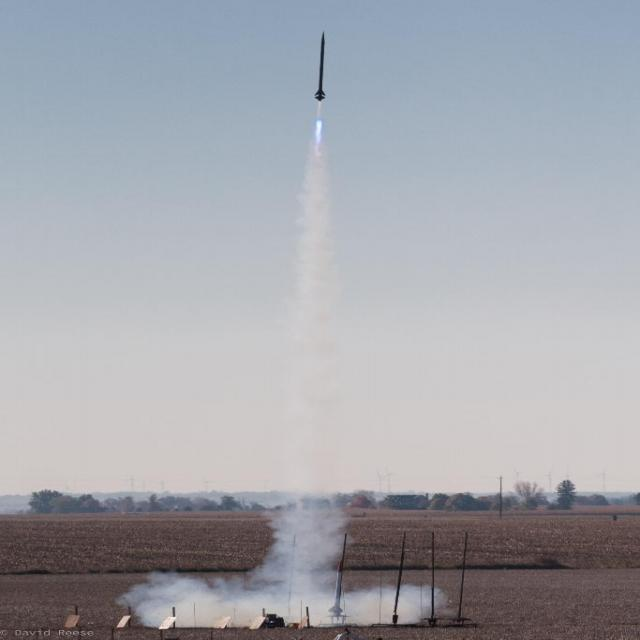Missile: (312, 28, 329, 106)
